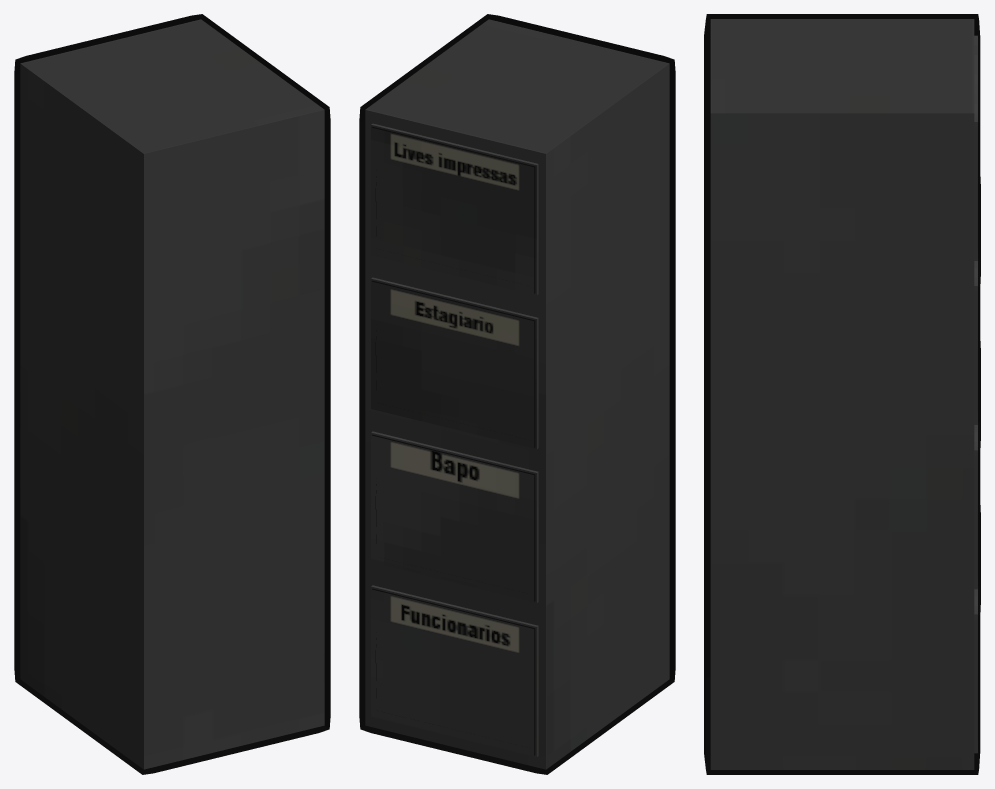
Rendered from Armario 1.glb.
The picture shows the model from 3 angles, left to right: view 1: azimuth 30°, elevation 25°; view 2: azimuth 150°, elevation 25°; view 3: azimuth 270°, elevation 25°; orthographic projection. The views are drawn at different scales.
Parts seen in each view (by area): view 1: Docs 1; view 2: Docs 1; view 3: Docs 1.
Part boxes in pixels (x1,y1,x2,y2): Docs 1: (14, 14, 330, 774); Docs 1: (359, 14, 675, 774); Docs 1: (704, 14, 980, 774).
Size of the model in its own units: 0.3441 by 1.09 by 0.4105.
2 materials, 1 textured.
